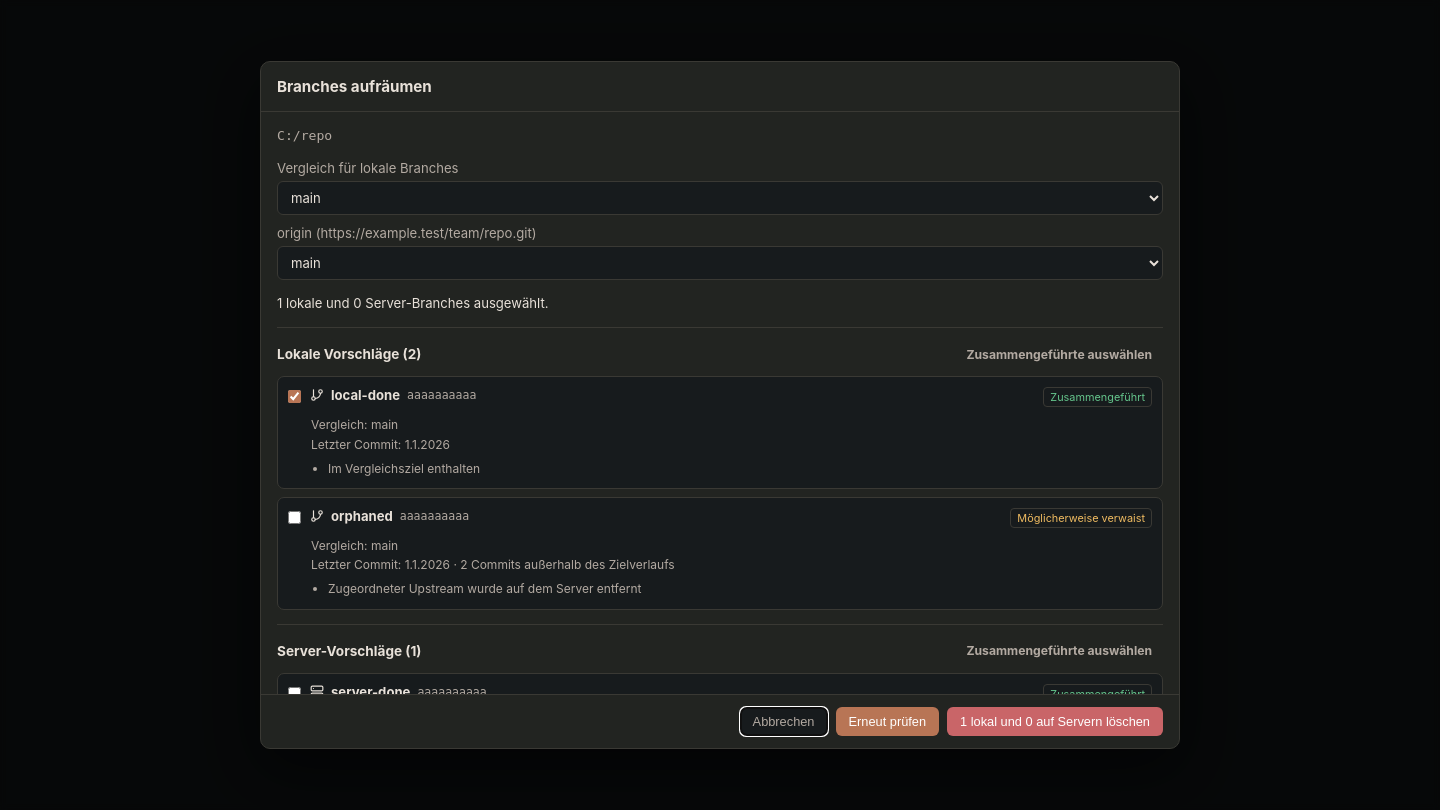
branch cleanup review dialog › renders the German review and prevents an expired plan from submitting
The image size is (1440, 810).
What coordinates should you click on to do the following:
click the button with class "dialog-btn-danger"
I would click on:
 (1055, 722)
Its box is [947, 707, 1163, 736].
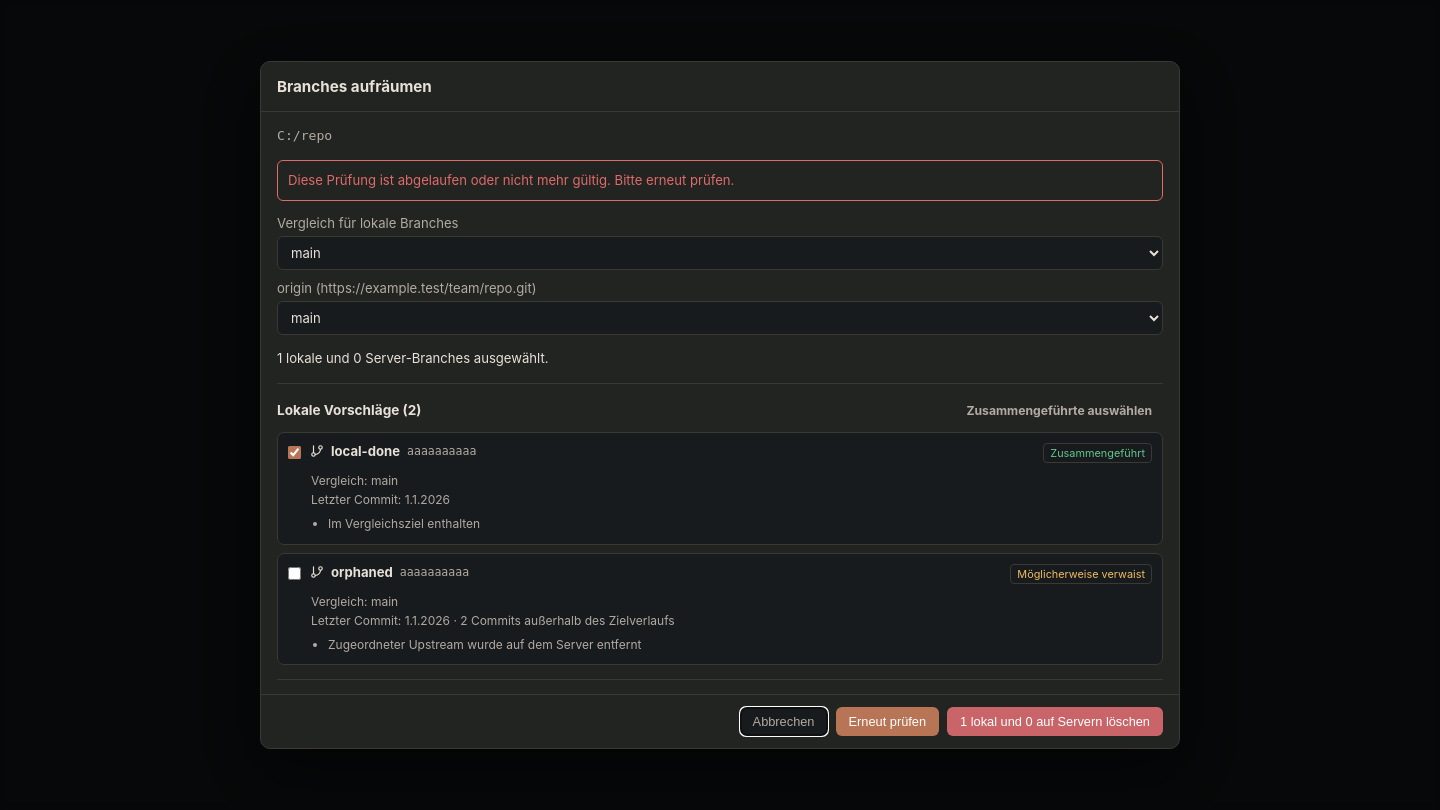
expect the message "Diese Prüfung ist abgelaufen oder nicht mehr gültig. Bitte erneut prüfen." is shown: met, box [277, 160, 1163, 201]
